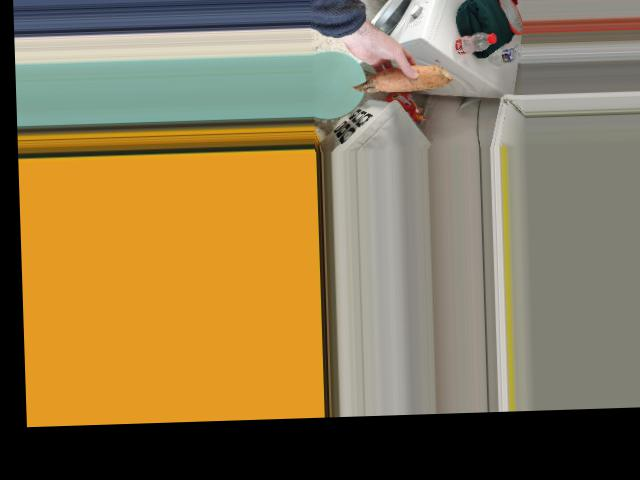sweet_potato: (359, 60, 445, 95)
